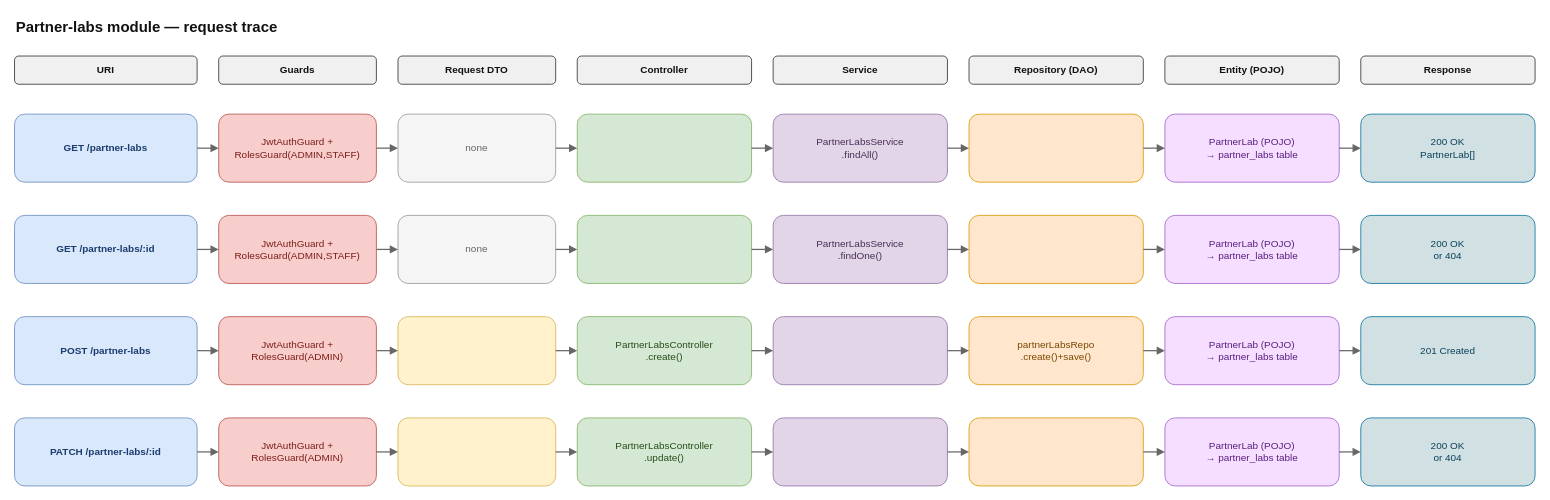
Image size: 1550x500. Some labels were removed from this diagram. The centre of each missing label's shape, as x and y in pixels:
"CreatePartnerLabDto (name, city?, contactPhone?, defaultTurnaroundHours?)" belongs at pixel 476 350.
"PartnerLabsController .findAll()" belongs at pixel 664 147.
"PartnerLabsController .findOne()" belongs at pixel 664 249.
"partnerLabsRepo .findOne()" belongs at pixel 1055 249.
"partnerLabsRepo .findOne()+save()" belongs at pixel 1055 451.
"partnerLabsRepo.find()" belongs at pixel 1055 147.
"PartnerLabsService .create()" belongs at pixel 859 350.
"PartnerLabsService .update()" belongs at pixel 859 451.
"UpdatePartnerLabDto (all fields optional)" belongs at pixel 476 451.
